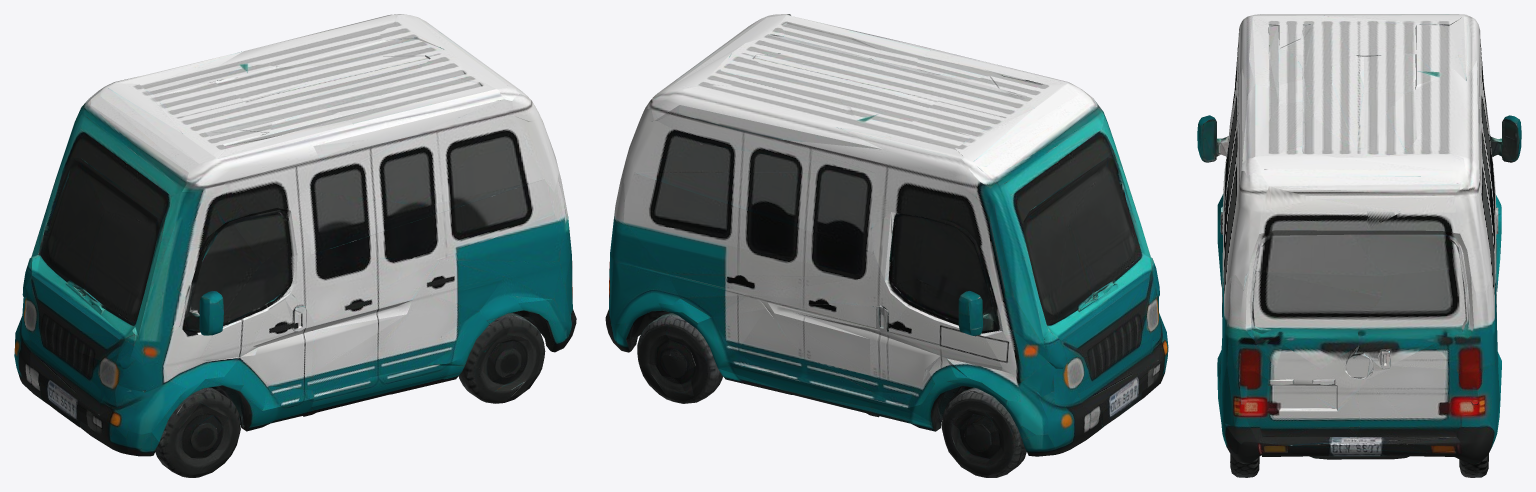
File: traffic_van.glb
The picture shows the model from 3 angles, left to right: view 1: azimuth 30°, elevation 25°; view 2: azimuth 150°, elevation 25°; view 3: azimuth 270°, elevation 25°; orthographic projection. The views are drawn at different scales.
Bounding box in the file's own units: 1.9 × 1.21 × 1.12.
1 material, 1 textured.
